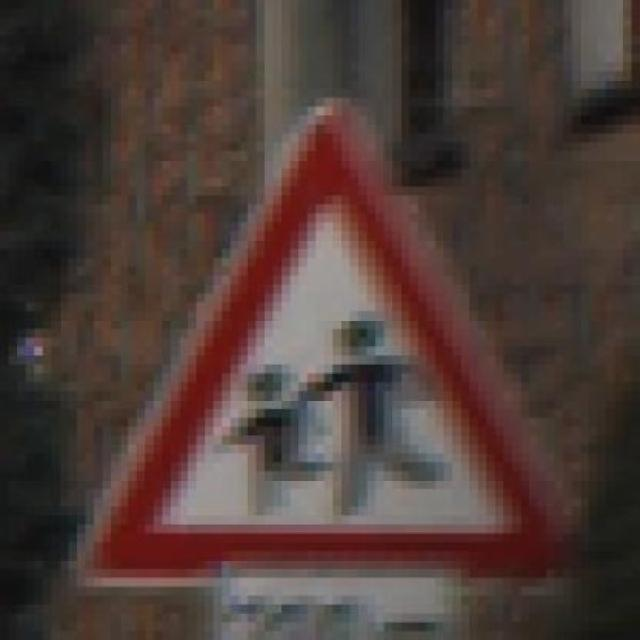Beware of children: (86, 89, 580, 605)
